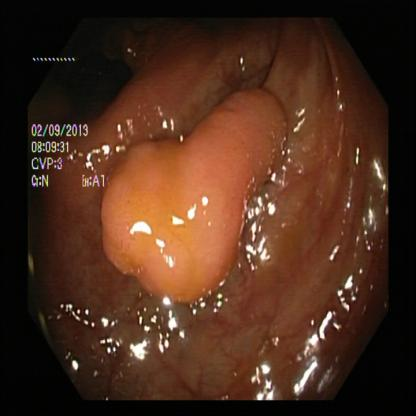Labels: (117, 107, 276, 291), (27, 47, 107, 193)
